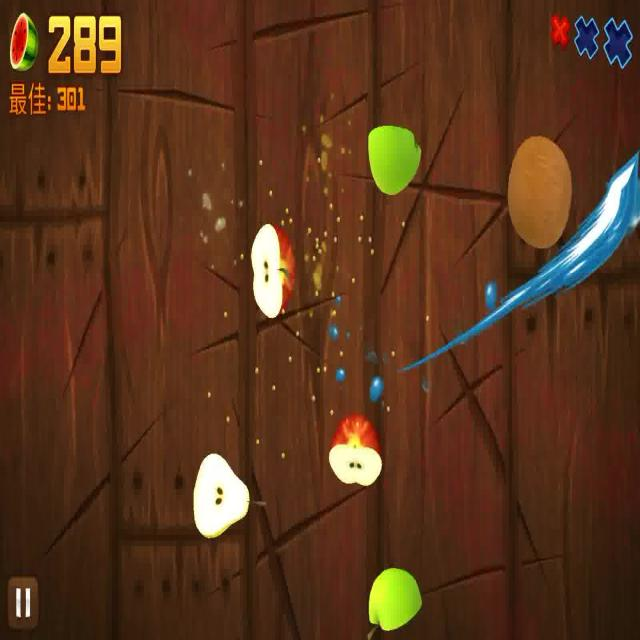fruit: (507, 134, 573, 248), (187, 453, 253, 538), (250, 217, 298, 316), (328, 410, 384, 484), (364, 571, 428, 632), (368, 123, 423, 193)
